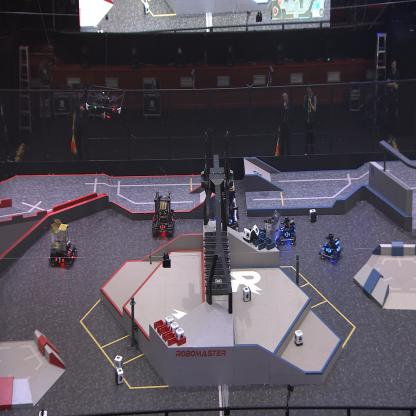car: (48, 219, 78, 268), (151, 190, 175, 238), (214, 186, 239, 232), (260, 208, 282, 252), (318, 232, 343, 263), (280, 216, 298, 245)
